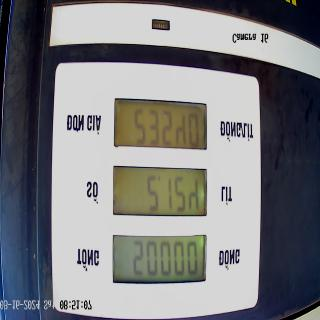screen: (110, 96, 210, 288)
